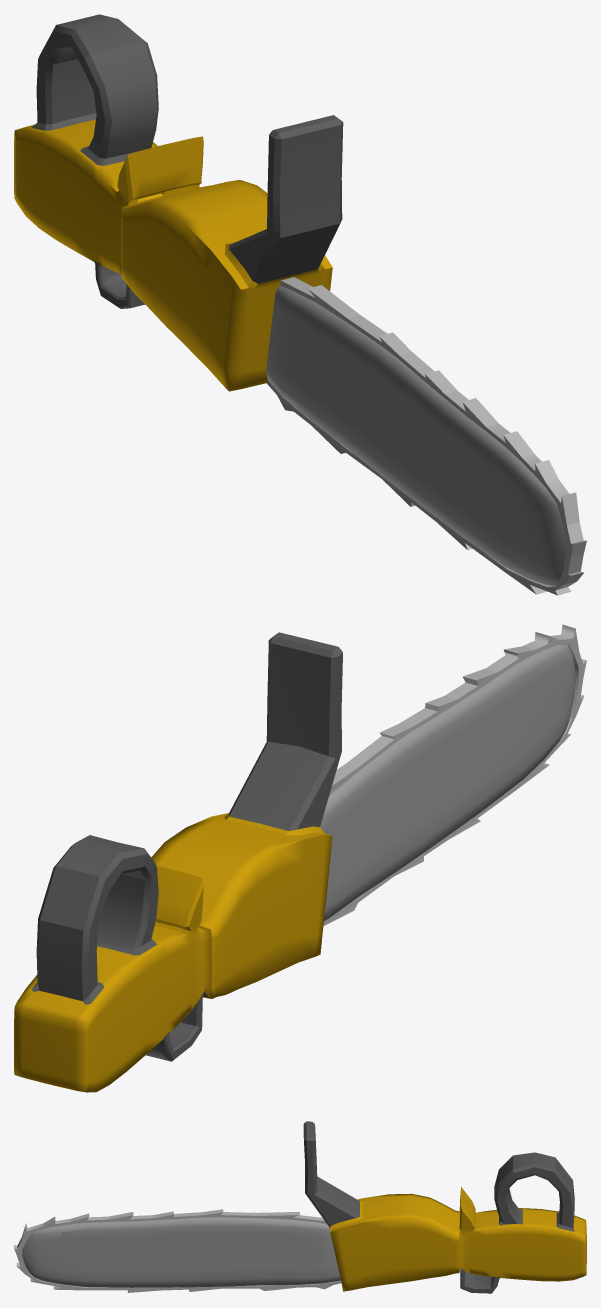
File: chainsaw 1.fbx
3 views of the same model, one above another, from view 1: azimuth 30°, elevation 25°; view 2: azimuth 150°, elevation 25°; view 3: azimuth 270°, elevation 25° (orthographic). The views are drawn at different scales.
Parts seen in each view (by area): view 1: pSphere2, pCube5; view 2: pSphere2, pCube5; view 3: pSphere2, pCube5.
Part boxes in pixels (x1,y1,x2,y2): pSphere2: (14,14,566,585); pCube5: (266,277,586,595); pSphere2: (14,632,575,1092); pCube5: (323,624,586,925); pSphere2: (22,1121,586,1293); pCube5: (14,1209,341,1292).
Bounding box in the file's own units: 16.61 × 50.31 × 161.
